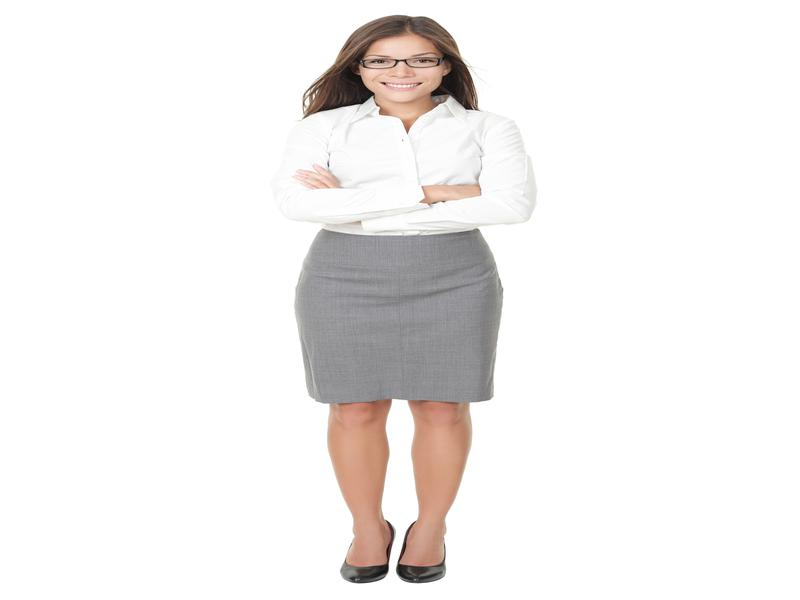human: (289, 15, 532, 584)
